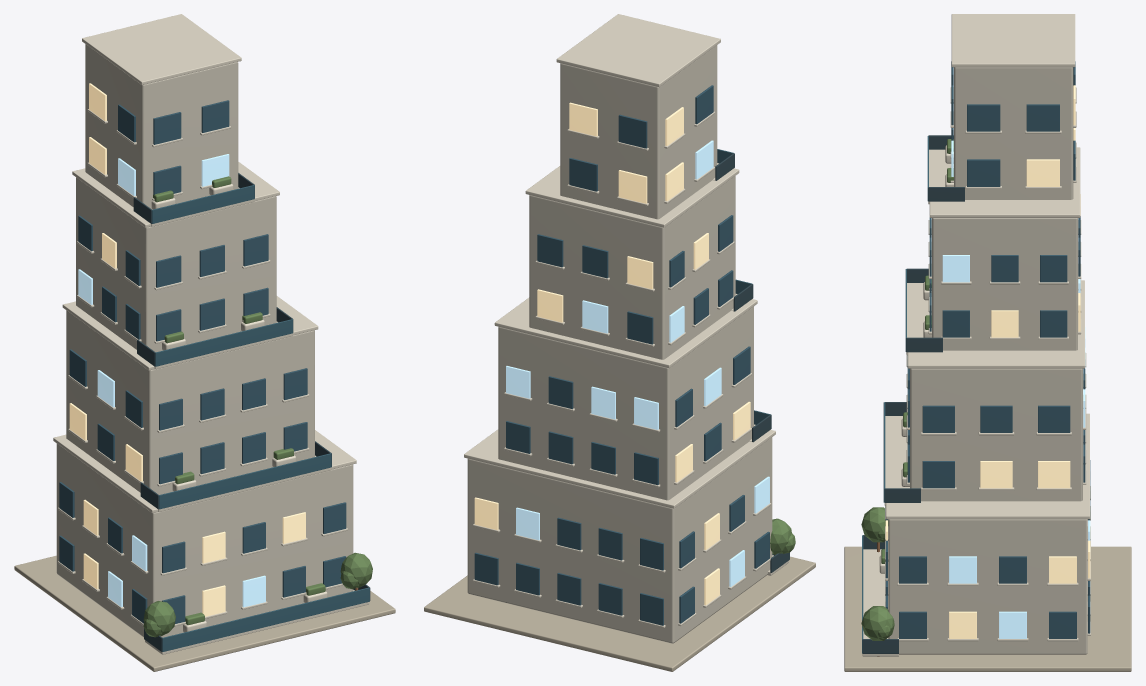
File: terrace-tower.glb
3 renders of one model, left to right at view 1: azimuth 30°, elevation 25°; view 2: azimuth 150°, elevation 25°; view 3: azimuth 270°, elevation 25°, orthographic. The views are drawn at different scales.
Visible parts, largest first — view 1: terrace_tower_Building_Volume, terrace_tower_Building_Volume.001, terrace_tower_Building_Volume.002, terrace_tower_Building_Volume.003, terrace_tower_Site_Paving, terrace_tower_Roof_Coping.003, terrace_tower_Balcony_Glass, terrace_tower_Balcony_Glass.001, terrace_tower_Balcony_Glass.002, terrace_tower_Roof_Coping, terrace_tower_Roof_Coping.001, terrace_tower_Balcony_Glass.003 (+31 smaller); view 2: terrace_tower_Building_Volume, terrace_tower_Building_Volume.001, terrace_tower_Building_Volume.002, terrace_tower_Building_Volume.003, terrace_tower_Site_Paving, terrace_tower_Roof_Coping.003, terrace_tower_Roof_Coping, terrace_tower_Roof_Coping.001, terrace_tower_Roof_Coping.002, terrace_tower_Window_Recess.096, terrace_tower_Window_Recess.088, terrace_tower_Window_Recess.098 (+26 smaller); view 3: terrace_tower_Building_Volume, terrace_tower_Building_Volume.001, terrace_tower_Building_Volume.002, terrace_tower_Building_Volume.003, terrace_tower_Site_Paving, terrace_tower_Roof_Coping.003, terrace_tower_Roof_Coping, terrace_tower_Roof_Coping.001, terrace_tower_Roof_Coping.002, terrace_tower_Balcony_Slab.001, terrace_tower_Balcony_Slab, terrace_tower_Balcony_Slab.002 (+31 smaller).
Part boxes in pixels (x1,y1,x2,y2): terrace_tower_Building_Volume: (56, 443, 353, 637); terrace_tower_Building_Volume.001: (66, 310, 314, 494); terrace_tower_Building_Volume.002: (76, 177, 276, 352); terrace_tower_Building_Volume.003: (85, 44, 238, 209); terrace_tower_Site_Paving: (14, 555, 395, 671); terrace_tower_Roof_Coping.003: (82, 14, 241, 84); terrace_tower_Balcony_Glass: (162, 587, 369, 651); terrace_tower_Balcony_Glass.001: (159, 453, 331, 509); terrace_tower_Balcony_Glass.002: (155, 319, 292, 366); terrace_tower_Roof_Coping: (53, 430, 356, 513); terrace_tower_Roof_Coping.001: (62, 296, 318, 370); terrace_tower_Balcony_Glass.003: (152, 185, 254, 223); terrace_tower_Building_Volume: (467, 437, 772, 643); terrace_tower_Building_Volume.001: (498, 306, 753, 500); terrace_tower_Building_Volume.002: (529, 176, 735, 359); terrace_tower_Building_Volume.003: (560, 45, 717, 219); terrace_tower_Site_Paving: (424, 556, 815, 671); terrace_tower_Roof_Coping.003: (556, 14, 720, 87); terrace_tower_Roof_Coping: (464, 429, 775, 508); terrace_tower_Roof_Coping.001: (494, 297, 757, 368); terrace_tower_Roof_Coping.002: (525, 166, 739, 227); terrace_tower_Window_Recess.096: (618, 114, 647, 148); terrace_tower_Window_Recess.088: (618, 170, 647, 203); terrace_tower_Window_Recess.098: (569, 102, 597, 136); terrace_tower_Building_Volume: (888, 519, 1087, 654); terrace_tower_Building_Volume.001: (910, 368, 1082, 501); terrace_tower_Building_Volume.002: (932, 218, 1077, 350); terrace_tower_Building_Volume.003: (954, 67, 1073, 199); terrace_tower_Site_Paving: (844, 546, 1131, 671); terrace_tower_Roof_Coping.003: (951, 14, 1075, 67); terrace_tower_Roof_Coping: (886, 413, 1089, 519); terrace_tower_Roof_Coping.001: (908, 280, 1084, 368); terrace_tower_Roof_Coping.002: (929, 147, 1080, 217); terrace_tower_Balcony_Slab.001: (884, 416, 909, 505); terrace_tower_Balcony_Slab: (862, 549, 898, 656); terrace_tower_Balcony_Slab.002: (906, 283, 931, 355).
Bounding box in the file's own units: 11.8 × 25.26 × 11.8.
